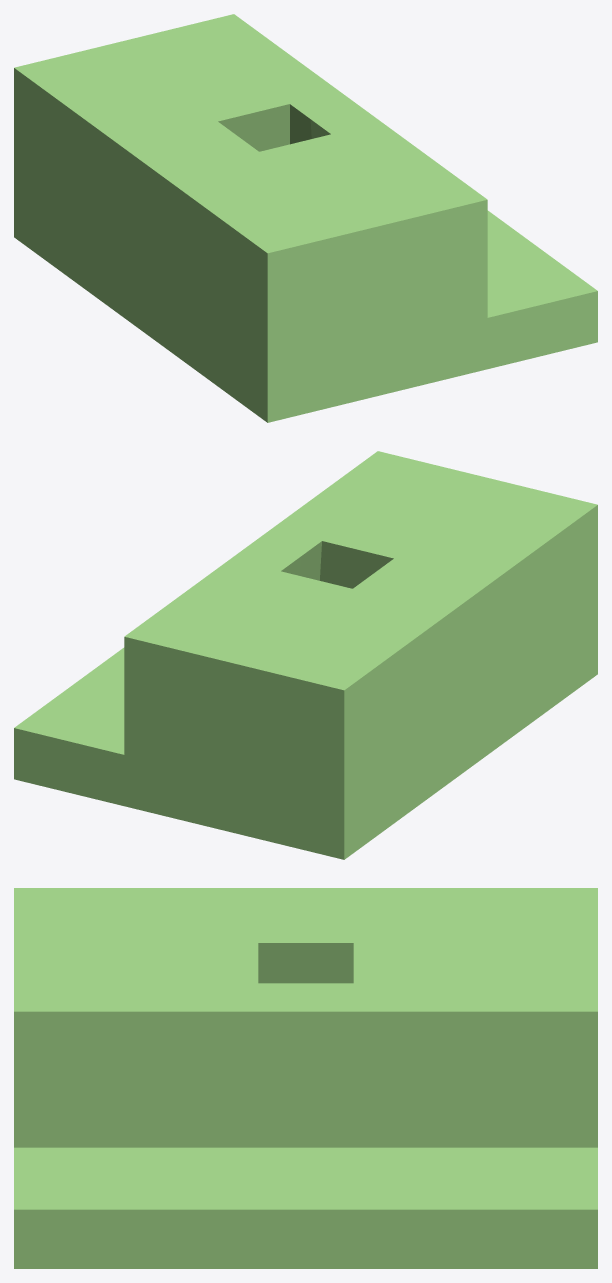
Rendered from VR03_protoboardled.fbx.
The picture shows the model from 3 angles, top to bottom: view 1: azimuth 30°, elevation 25°; view 2: azimuth 150°, elevation 25°; view 3: azimuth 270°, elevation 25°; orthographic projection. The views are drawn at different scales.
Parts seen in each view (by area): view 1: Cube.001_Cube.000; view 2: Cube.001_Cube.000; view 3: Cube.001_Cube.000.
Boxes of the visible parts, x1,y1,x2,y2 form: Cube.001_Cube.000: (14,14,597,422); Cube.001_Cube.000: (14,451,597,859); Cube.001_Cube.000: (14,888,597,1268).
Bounding box in the file's own units: 407 × 200 × 541.
